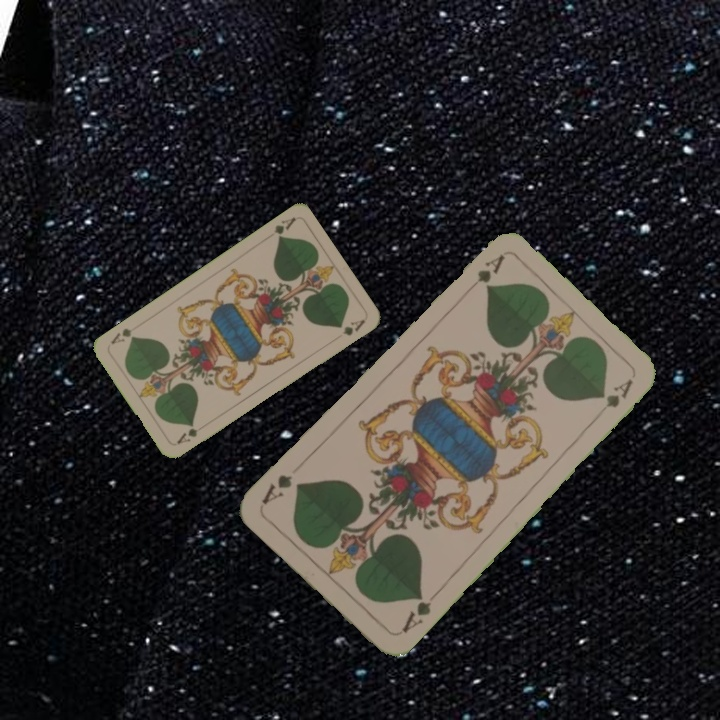GA: (460, 250, 507, 298), (397, 589, 434, 636), (173, 420, 209, 447), (270, 213, 298, 242)
